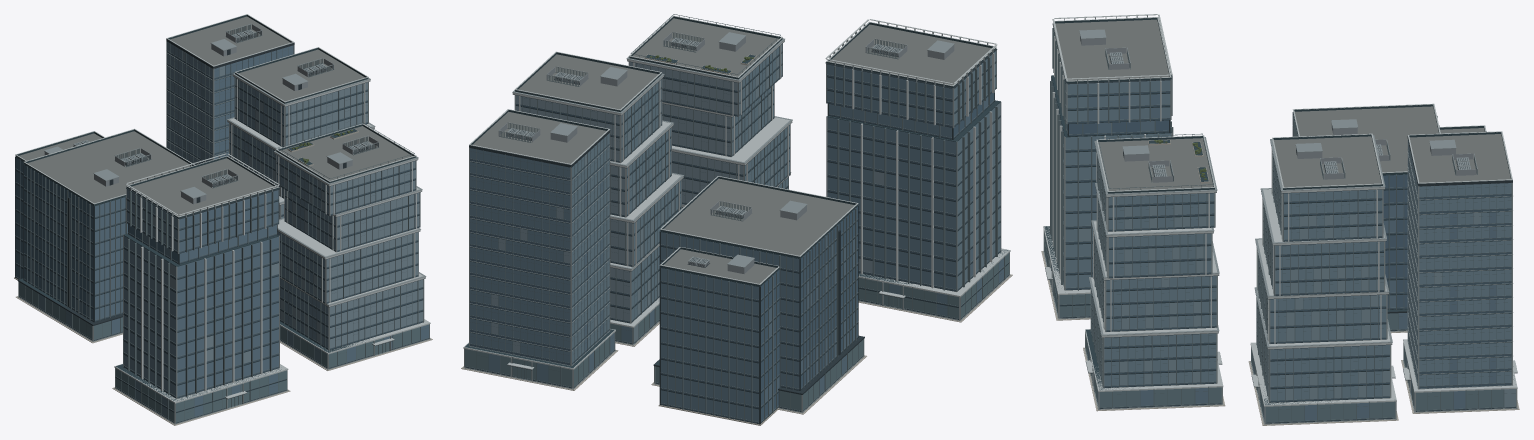
File: office-skyline.glb
3 renders of one model, left to right at view 1: azimuth 30°, elevation 25°; view 2: azimuth 150°, elevation 25°; view 3: azimuth 270°, elevation 25°, orthographic. The views are drawn at different scales.
Visible parts, largest first — view 1: E_通高竖向格栅塔楼, D_带屋顶露台的银框楼, C_深蓝竖梃双体办公楼, B_银灰横框错层塔楼, A_窄身细格玻璃塔楼; view 2: E_通高竖向格栅塔楼, C_深蓝竖梃双体办公楼, A_窄身细格玻璃塔楼, B_银灰横框错层塔楼, D_带屋顶露台的银框楼; view 3: B_银灰横框错层塔楼, D_带屋顶露台的银框楼, A_窄身细格玻璃塔楼, E_通高竖向格栅塔楼, C_深蓝竖梃双体办公楼.
Boxes of the visible parts, <box> form: E_通高竖向格栅塔楼: <box>112,153,290,425</box>; D_带屋顶露台的银框楼: <box>274,122,432,370</box>; C_深蓝竖梃双体办公楼: <box>14,128,195,343</box>; B_银灰横框错层塔楼: <box>227,47,375,219</box>; A_窄身细格玻璃塔楼: <box>166,14,294,164</box>; E_通高竖向格栅塔楼: <box>825,19,1012,322</box>; C_深蓝竖梃双体办公楼: <box>651,176,866,425</box>; A_窄身细格玻璃塔楼: <box>461,109,618,390</box>; B_银灰横框错层塔楼: <box>512,51,683,346</box>; D_带屋顶露台的银框楼: <box>626,14,792,208</box>; B_银灰横框错层塔楼: <box>1248,133,1398,425</box>; D_带屋顶露台的银框楼: <box>1083,133,1225,411</box>; A_窄身细格玻璃塔楼: <box>1401,131,1519,413</box>; E_通高竖向格栅塔楼: <box>1041,14,1173,320</box>; C_深蓝竖梃双体办公楼: <box>1292,103,1486,333</box>.
Size of the model in its own units: 90.09 by 56.37 by 101.
